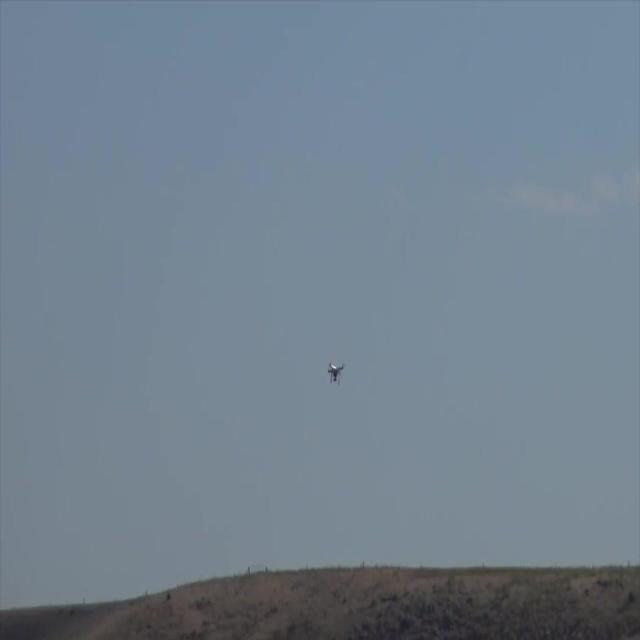UAV: (328, 362, 346, 386)
